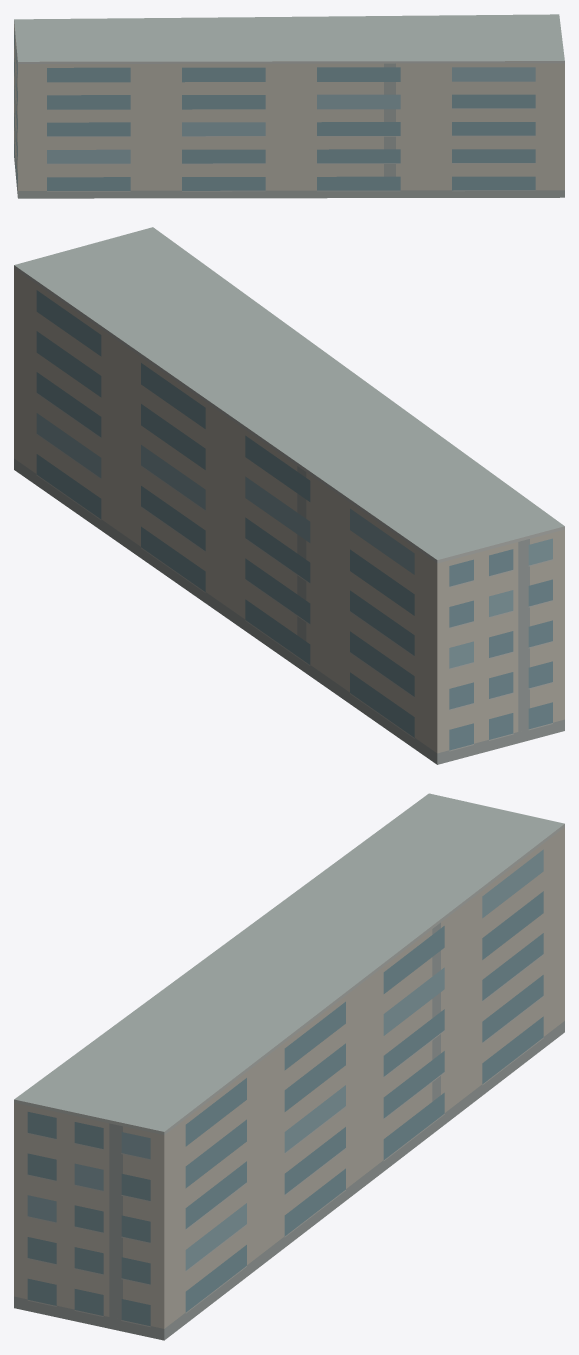
The model's file is residential-c89e04b6-c84a-45ac-bfd3-7e3b5f196b99.glb.
The picture shows the model from 3 angles, top to bottom: view 1: azimuth 30°, elevation 25°; view 2: azimuth 150°, elevation 25°; view 3: azimuth 270°, elevation 25°; orthographic projection. The views are drawn at different scales.
Visible parts, largest first — view 1: residential-c89e04b6-c84a-45ac-bfd3-7e3b5f196b99.tmp; view 2: residential-c89e04b6-c84a-45ac-bfd3-7e3b5f196b99.tmp; view 3: residential-c89e04b6-c84a-45ac-bfd3-7e3b5f196b99.tmp.
Part boxes in pixels (x1,y1,x2,y2): residential-c89e04b6-c84a-45ac-bfd3-7e3b5f196b99.tmp: (14, 14, 564, 198); residential-c89e04b6-c84a-45ac-bfd3-7e3b5f196b99.tmp: (14, 227, 564, 764); residential-c89e04b6-c84a-45ac-bfd3-7e3b5f196b99.tmp: (14, 793, 564, 1340).
Size of the model in its own units: 53.08 by 15.25 by 36.5.
